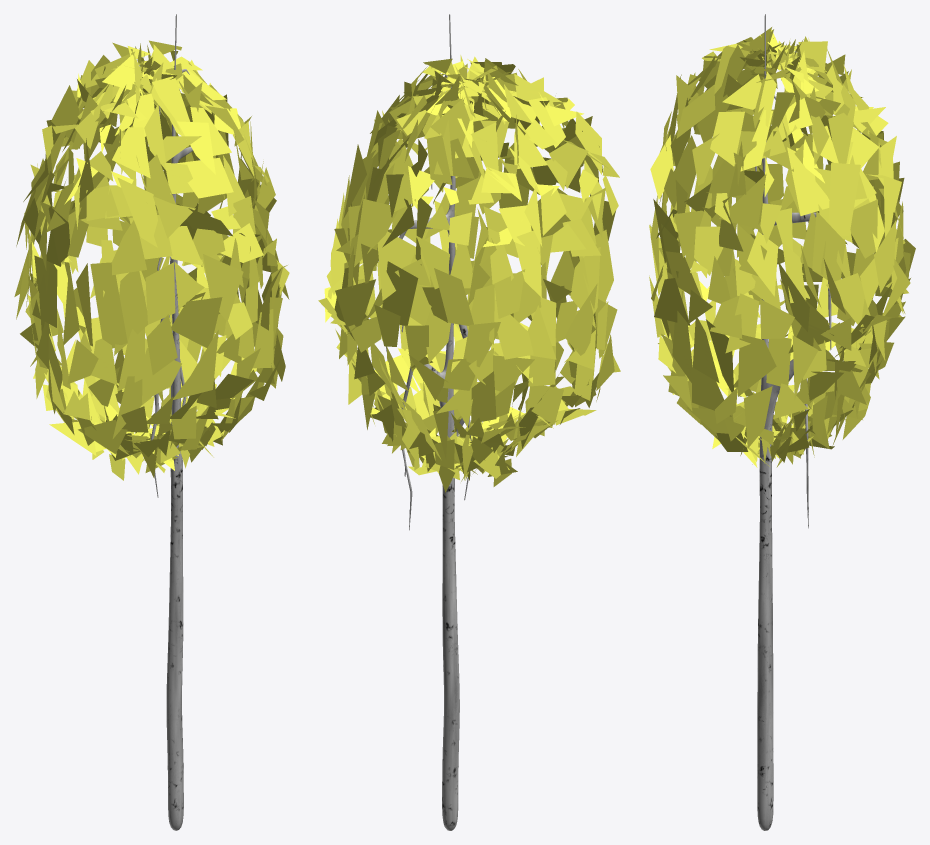
The model's file is Leaves24.002.fbx.
3 renders of one model, left to right at view 1: azimuth 30°, elevation 25°; view 2: azimuth 150°, elevation 25°; view 3: azimuth 270°, elevation 25°, orthographic.
Parts seen in each view (by area): view 1: Leaves24.002; view 2: Leaves24.002; view 3: Leaves24.002.
Part boxes in pixels (x1,y1,x2,y2): Leaves24.002: (14, 14, 289, 830); Leaves24.002: (318, 14, 620, 830); Leaves24.002: (649, 14, 915, 830).
Bounding box in the file's own units: 816 × 2574 × 762.
Materials: 2 (1 with a texture image).
